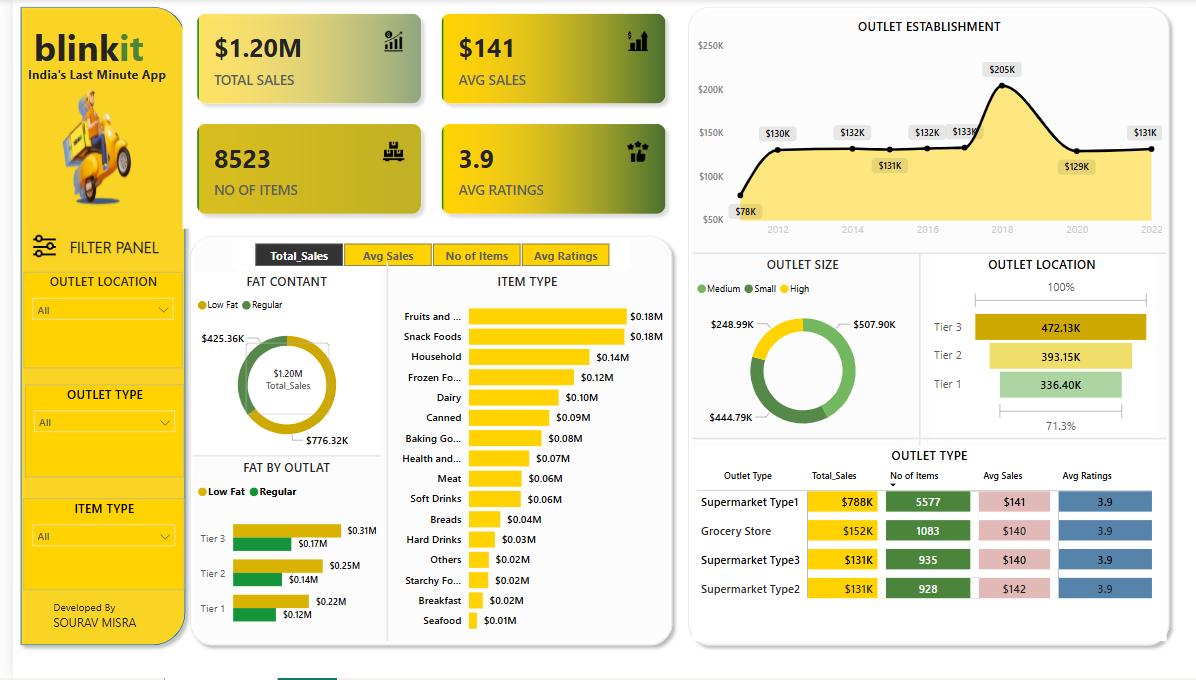

The dashboard page shown, as its layout file describes it:
{"tool":"powerbi","page":{"name":"Page 1","canvas":[1400,800],"ordinal":0},"visuals":[{"type":"shape","box":[0,0,212.1,770.6],"z":0},{"type":"textbox","box":[7.1,72.5,183.8,31.8],"z":1000},{"type":"cardVisual","fields":{"Data":["BlinkIT Grocery Data.Total_Sales","BlinkIT Grocery Data.Avg Sales","BlinkIT Grocery Data.No of Items","BlinkIT Grocery Data.Avg Ratings"]},"box":[199.7,0,586.8,270.4],"z":2000},{"type":"shape","box":[200,270,586,500],"z":3000},{"type":"donutChart","title":"FAT CONTANT","fields":{"Y":["BlinkIT Grocery Data.Total_Sales"],"Category":["BlinkIT Grocery Data.Item Fat Content"]},"box":[212.1,321.7,220.9,219.2],"z":4000},{"type":"slicer","fields":{"Values":["Metrics.Metrics"]},"box":[259.8,281,466.6,38.9],"z":5000},{"type":"cardVisual","fields":{"Data":["BlinkIT Grocery Data.Total_Sales"]},"box":[268.6,399.4,109.6,95.4],"z":6000},{"type":"clusteredBarChart","title":"FAT BY OUTLAT","fields":{"Y":["BlinkIT Grocery Data.Total_Sales"],"Category":["BlinkIT Grocery Data.Outlet Location Type"],"Series":["BlinkIT Grocery Data.Item Fat Content"]},"box":[212.1,540.8,220.9,215.6],"z":7000},{"type":"barChart","title":"ITEM TYPE","fields":{"Y":["BlinkIT Grocery Data.Total_Sales"],"Category":["BlinkIT Grocery Data.Item Type"]},"box":[441.8,321.7,328.7,434.8],"z":8000},{"type":"shape","box":[212.1,519.6,220.9,37.1],"z":9000},{"type":"shape","box":[433,309.3,15.9,447.1],"z":10000},{"type":"shape","box":[786.5,0,585,770.6],"z":11000},{"type":"lineChart","title":"OUTLET ESTABLISHMENT","fields":{"Y":["BlinkIT Grocery Data.Total_Sales"],"Category":["BlinkIT Grocery Data.Outlet Establishment Year"]},"box":[800.6,21.2,558.5,268.6],"z":12000},{"type":"shape","box":[800.6,289.8,558.5,19.4],"z":13000},{"type":"donutChart","title":"OUTLET SIZE","fields":{"Y":["BlinkIT Grocery Data.Total_Sales"],"Category":["BlinkIT Grocery Data.Outlet Size"]},"box":[800.6,302.2,259.8,224.5],"z":14000},{"type":"shape","box":[1060.4,300.4,15.9,226.2],"z":15000},{"type":"funnel","title":"OUTLET LOCATION","fields":{"Y":["Sum(BlinkIT Grocery Data.Sales)"],"Category":["BlinkIT Grocery Data.Outlet Location Type"]},"box":[1079.8,302.2,265.1,215.6],"z":16000},{"type":"pivotTable","title":"OUTLET TYPE","fields":{"Rows":["BlinkIT Grocery Data.Outlet Type"],"Values":["BlinkIT Grocery Data.Total_Sales","BlinkIT Grocery Data.No of Items","BlinkIT Grocery Data.Avg Sales","BlinkIT Grocery Data.Avg Ratings"]},"box":[800.6,526.7,558.5,229.8],"z":17000},{"type":"shape","box":[800.6,509,558.5,17.7],"z":18000},{"type":"textbox","box":[19.4,21.2,159.1,67.2],"z":19000},{"type":"slicer","title":"OUTLET LOCATION","fields":{"Values":["BlinkIT Grocery Data.Outlet Location Type"]},"box":[12.4,321.7,187.3,113.1],"z":20000},{"type":"slicer","title":"OUTLET TYPE","fields":{"Values":["BlinkIT Grocery Data.Outlet Type"]},"box":[14.1,454.2,187.3,109.6],"z":21000},{"type":"slicer","title":"ITEM TYPE","fields":{"Values":["BlinkIT Grocery Data.Item Type"]},"box":[12.4,588.5,189.1,107.8],"z":22000},{"type":"textbox","box":[61.9,273.9,129,35.3],"z":23000},{"type":"image","box":[14.1,258,46,65.4],"z":24000},{"type":"textbox","box":[42.4,701.6,136.1,54.8],"z":25000},{"type":"image","box":[0,68.9,199.7,212.1],"z":26000}]}

Visuals, with their boxes in screenshot pixels (x1, y1, x2, y2), scaled from the page's 1400x800 canvas onto the 1196x680 screenshot:
shape: <bbox>0, 0, 181, 655</bbox>
textbox: <bbox>6, 62, 163, 89</bbox>
cardVisual - BlinkIT Grocery Data.Total_Sales x BlinkIT Grocery Data.Avg Sales: <bbox>171, 0, 672, 230</bbox>
shape: <bbox>171, 230, 671, 654</bbox>
"FAT CONTANT" donutChart: <bbox>181, 273, 370, 460</bbox>
slicer - Metrics.Metrics: <bbox>222, 239, 621, 272</bbox>
cardVisual - BlinkIT Grocery Data.Total_Sales: <bbox>229, 339, 323, 421</bbox>
"FAT BY OUTLAT" clusteredBarChart: <bbox>181, 460, 370, 643</bbox>
"ITEM TYPE" barChart: <bbox>377, 273, 658, 643</bbox>
shape: <bbox>181, 442, 370, 473</bbox>
shape: <bbox>370, 263, 383, 643</bbox>
shape: <bbox>672, 0, 1172, 655</bbox>
"OUTLET ESTABLISHMENT" lineChart: <bbox>684, 18, 1161, 246</bbox>
shape: <bbox>684, 246, 1161, 263</bbox>
"OUTLET SIZE" donutChart: <bbox>684, 257, 906, 448</bbox>
shape: <bbox>906, 255, 919, 448</bbox>
"OUTLET LOCATION" funnel: <bbox>922, 257, 1149, 440</bbox>
"OUTLET TYPE" pivotTable: <bbox>684, 448, 1161, 643</bbox>
shape: <bbox>684, 433, 1161, 448</bbox>
textbox: <bbox>17, 18, 152, 75</bbox>
"OUTLET LOCATION" slicer: <bbox>11, 273, 171, 370</bbox>
"OUTLET TYPE" slicer: <bbox>12, 386, 172, 479</bbox>
"ITEM TYPE" slicer: <bbox>11, 500, 172, 592</bbox>
textbox: <bbox>53, 233, 163, 263</bbox>
image: <bbox>12, 219, 51, 275</bbox>
textbox: <bbox>36, 596, 152, 643</bbox>
image: <bbox>0, 59, 171, 239</bbox>
